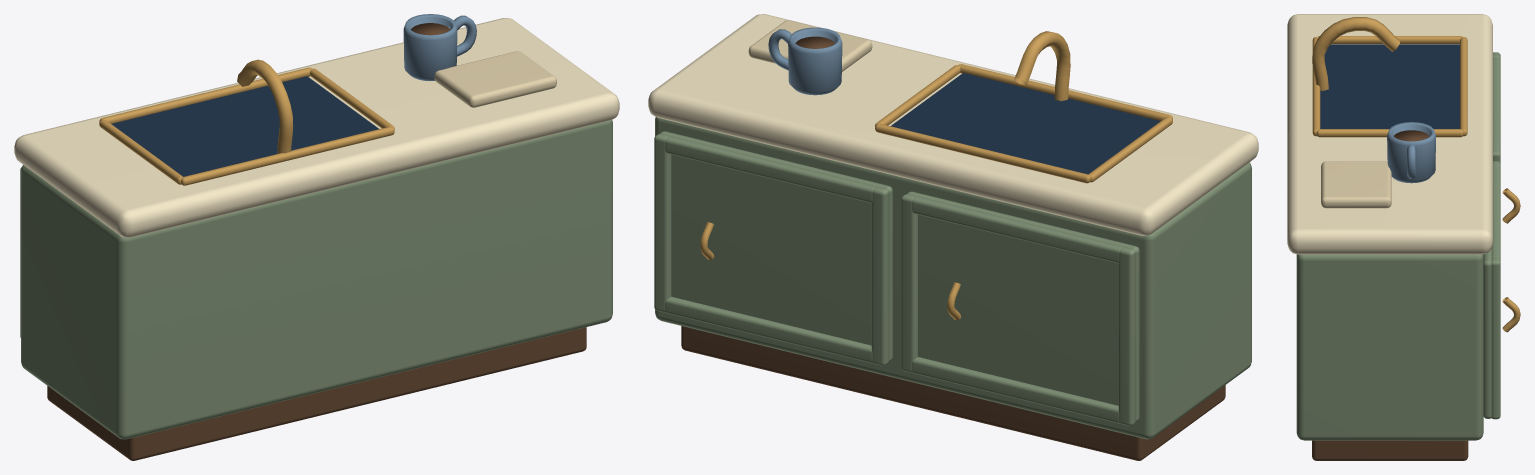
The model's file is sink.glb.
3 renders of one model, left to right at view 1: azimuth 30°, elevation 25°; view 2: azimuth 150°, elevation 25°; view 3: azimuth 270°, elevation 25°, orthographic. The views are drawn at different scales.
Visible parts, largest first — view 1: House_sink; view 2: House_sink; view 3: House_sink.
Part boxes in pixels (left/top/right/bottom): House_sink: left=14, top=14, right=619, bottom=460; House_sink: left=648, top=14, right=1258, bottom=460; House_sink: left=1287, top=14, right=1520, bottom=460.
Size of the model in its own units: 1.72 by 1.12 by 0.7604.
